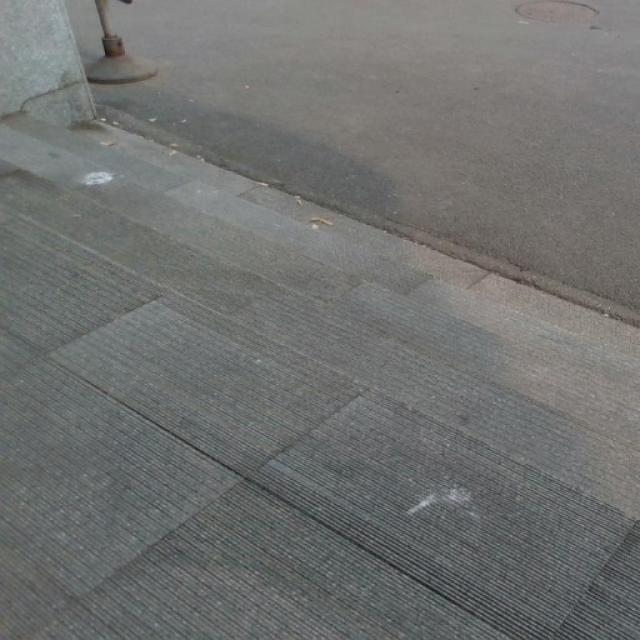stair: (16, 125, 640, 589)
